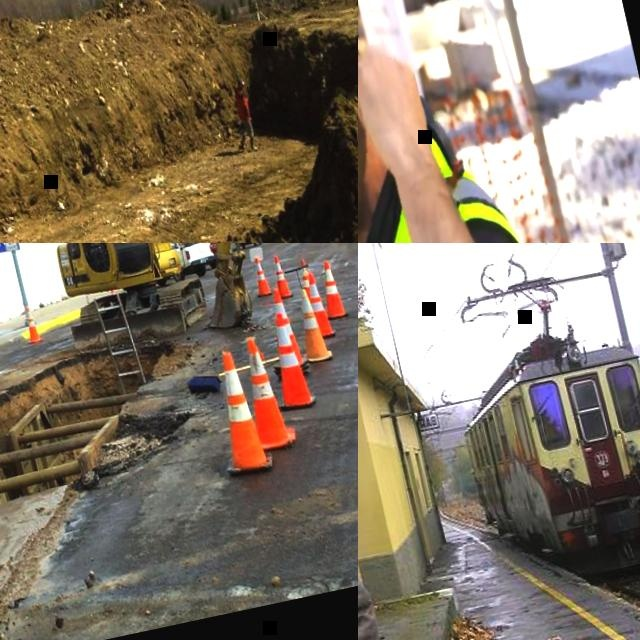Hardhat: (236, 78, 243, 85)
NO-Safety Vest: (232, 90, 250, 121)
Person: (358, 0, 589, 243), (222, 75, 259, 153)
Safety Cone: (199, 345, 273, 479), (234, 331, 297, 451), (257, 312, 314, 413), (255, 285, 308, 378), (291, 287, 333, 364), (313, 257, 346, 321), (303, 270, 333, 338), (267, 254, 293, 299), (247, 254, 272, 298), (19, 304, 42, 344), (296, 257, 313, 296)
Safety Vest: (358, 110, 589, 243)
machinery: (23, 243, 279, 360)
vehicle: (164, 243, 216, 280), (184, 243, 221, 272)
